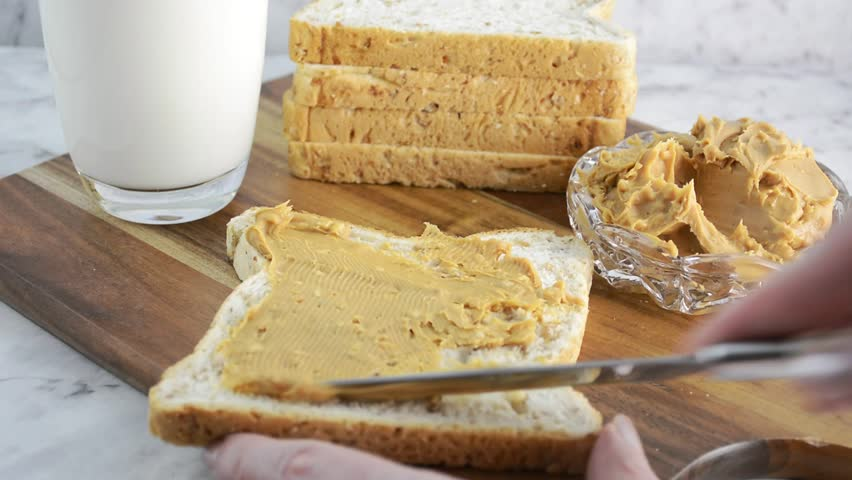glass of milk: (34, 2, 274, 234)
slice of bread: (164, 207, 603, 475), (284, 1, 629, 199)
